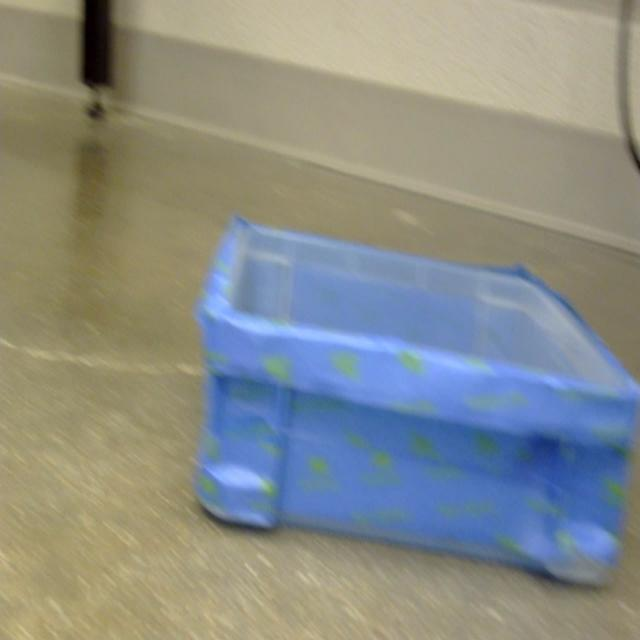bucket: (192, 214, 640, 591)
